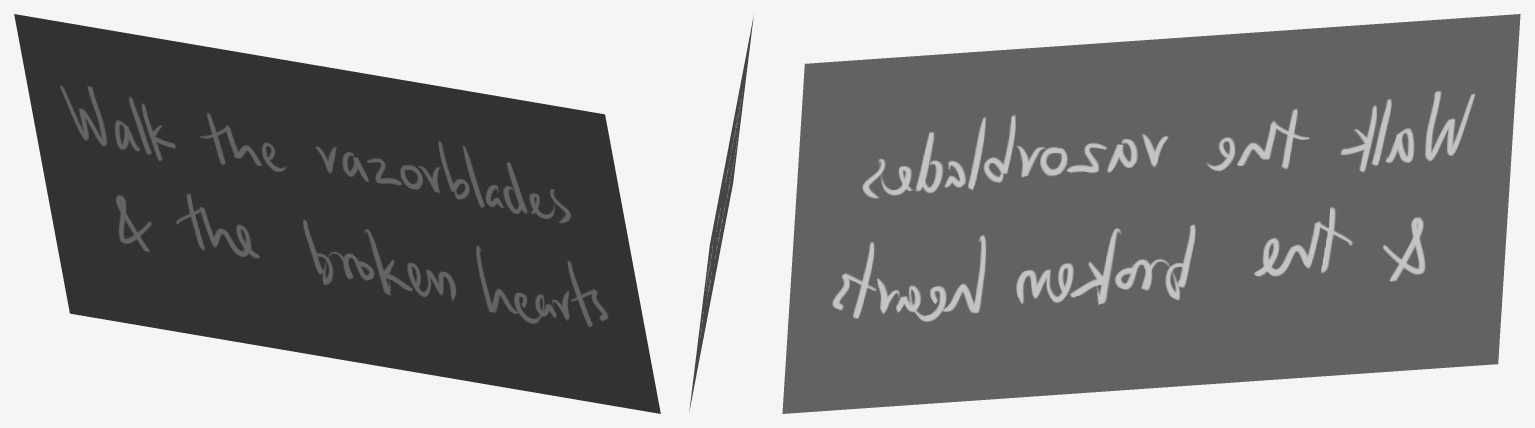
3 views of the same model, side by side, from view 1: azimuth 30°, elevation 25°; view 2: azimuth 150°, elevation 25°; view 3: azimuth 270°, elevation 25° (orthographic). The views are drawn at different scales.
Visible parts, largest first — view 1: Plane.002; view 2: Plane.002; view 3: Plane.002.
Part boxes in pixels (x1,y1,x2,y2): Plane.002: (14,14,660,413); Plane.002: (689,17,753,410); Plane.002: (782,14,1520,413).
Bounding box in the file's own units: 1.25 × 1.51 × 2.45.
1 material, 1 textured.
